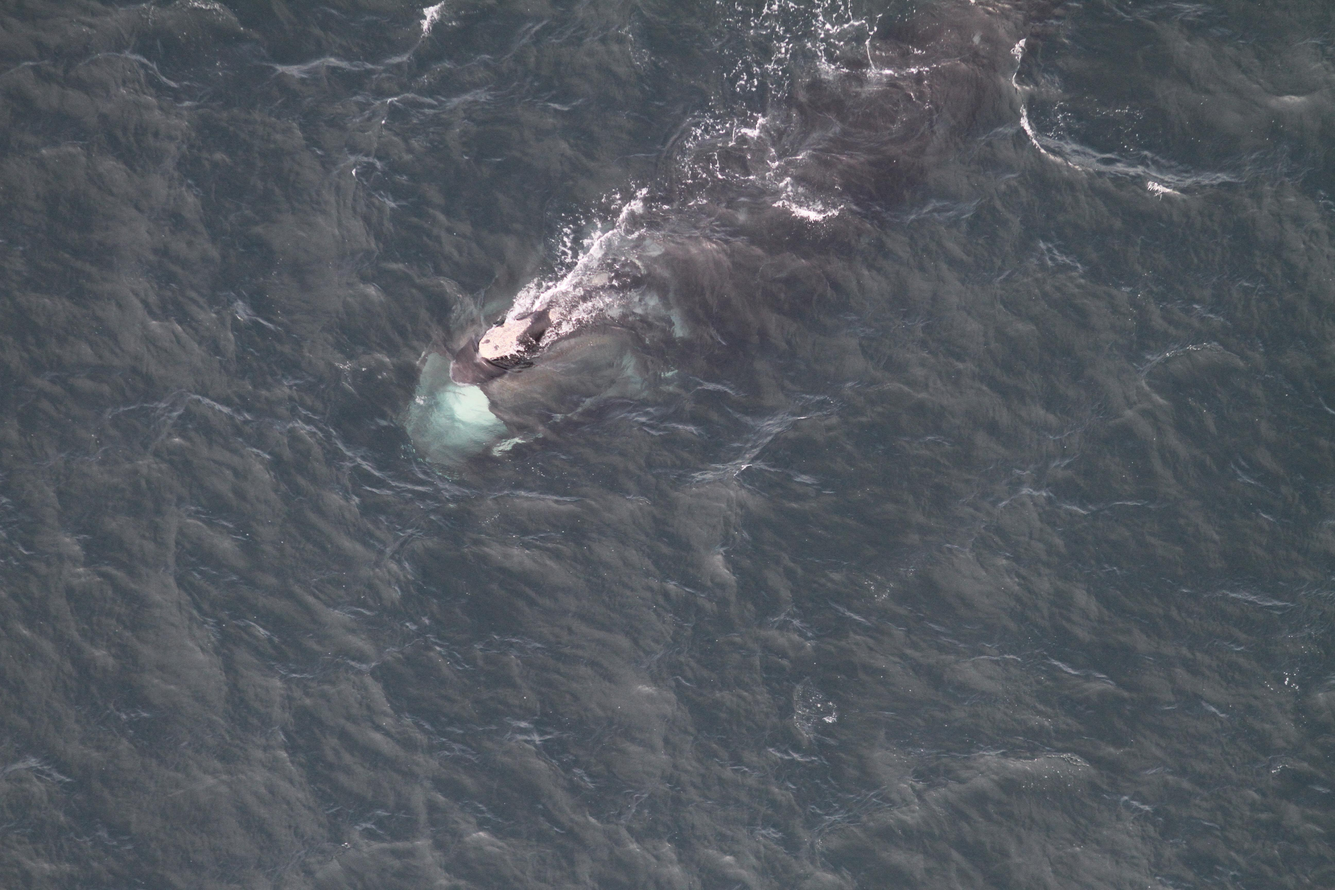whale: (394, 0, 1020, 497)
